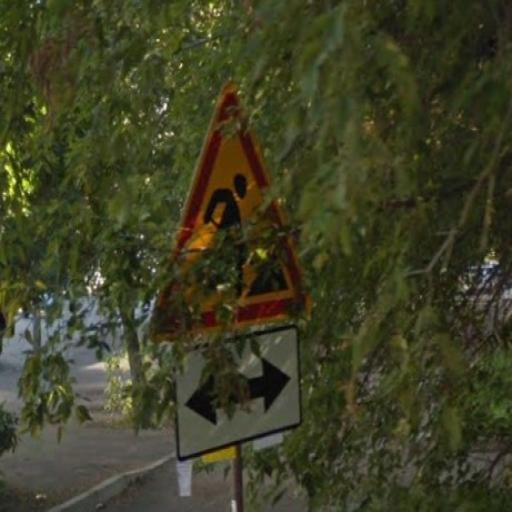traffic_sign: (147, 83, 319, 344)
